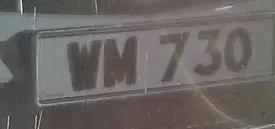0: (220, 21, 261, 78)
3: (190, 25, 229, 83)
7: (155, 26, 194, 87)
M: (101, 34, 143, 90)
W: (63, 37, 104, 93)
